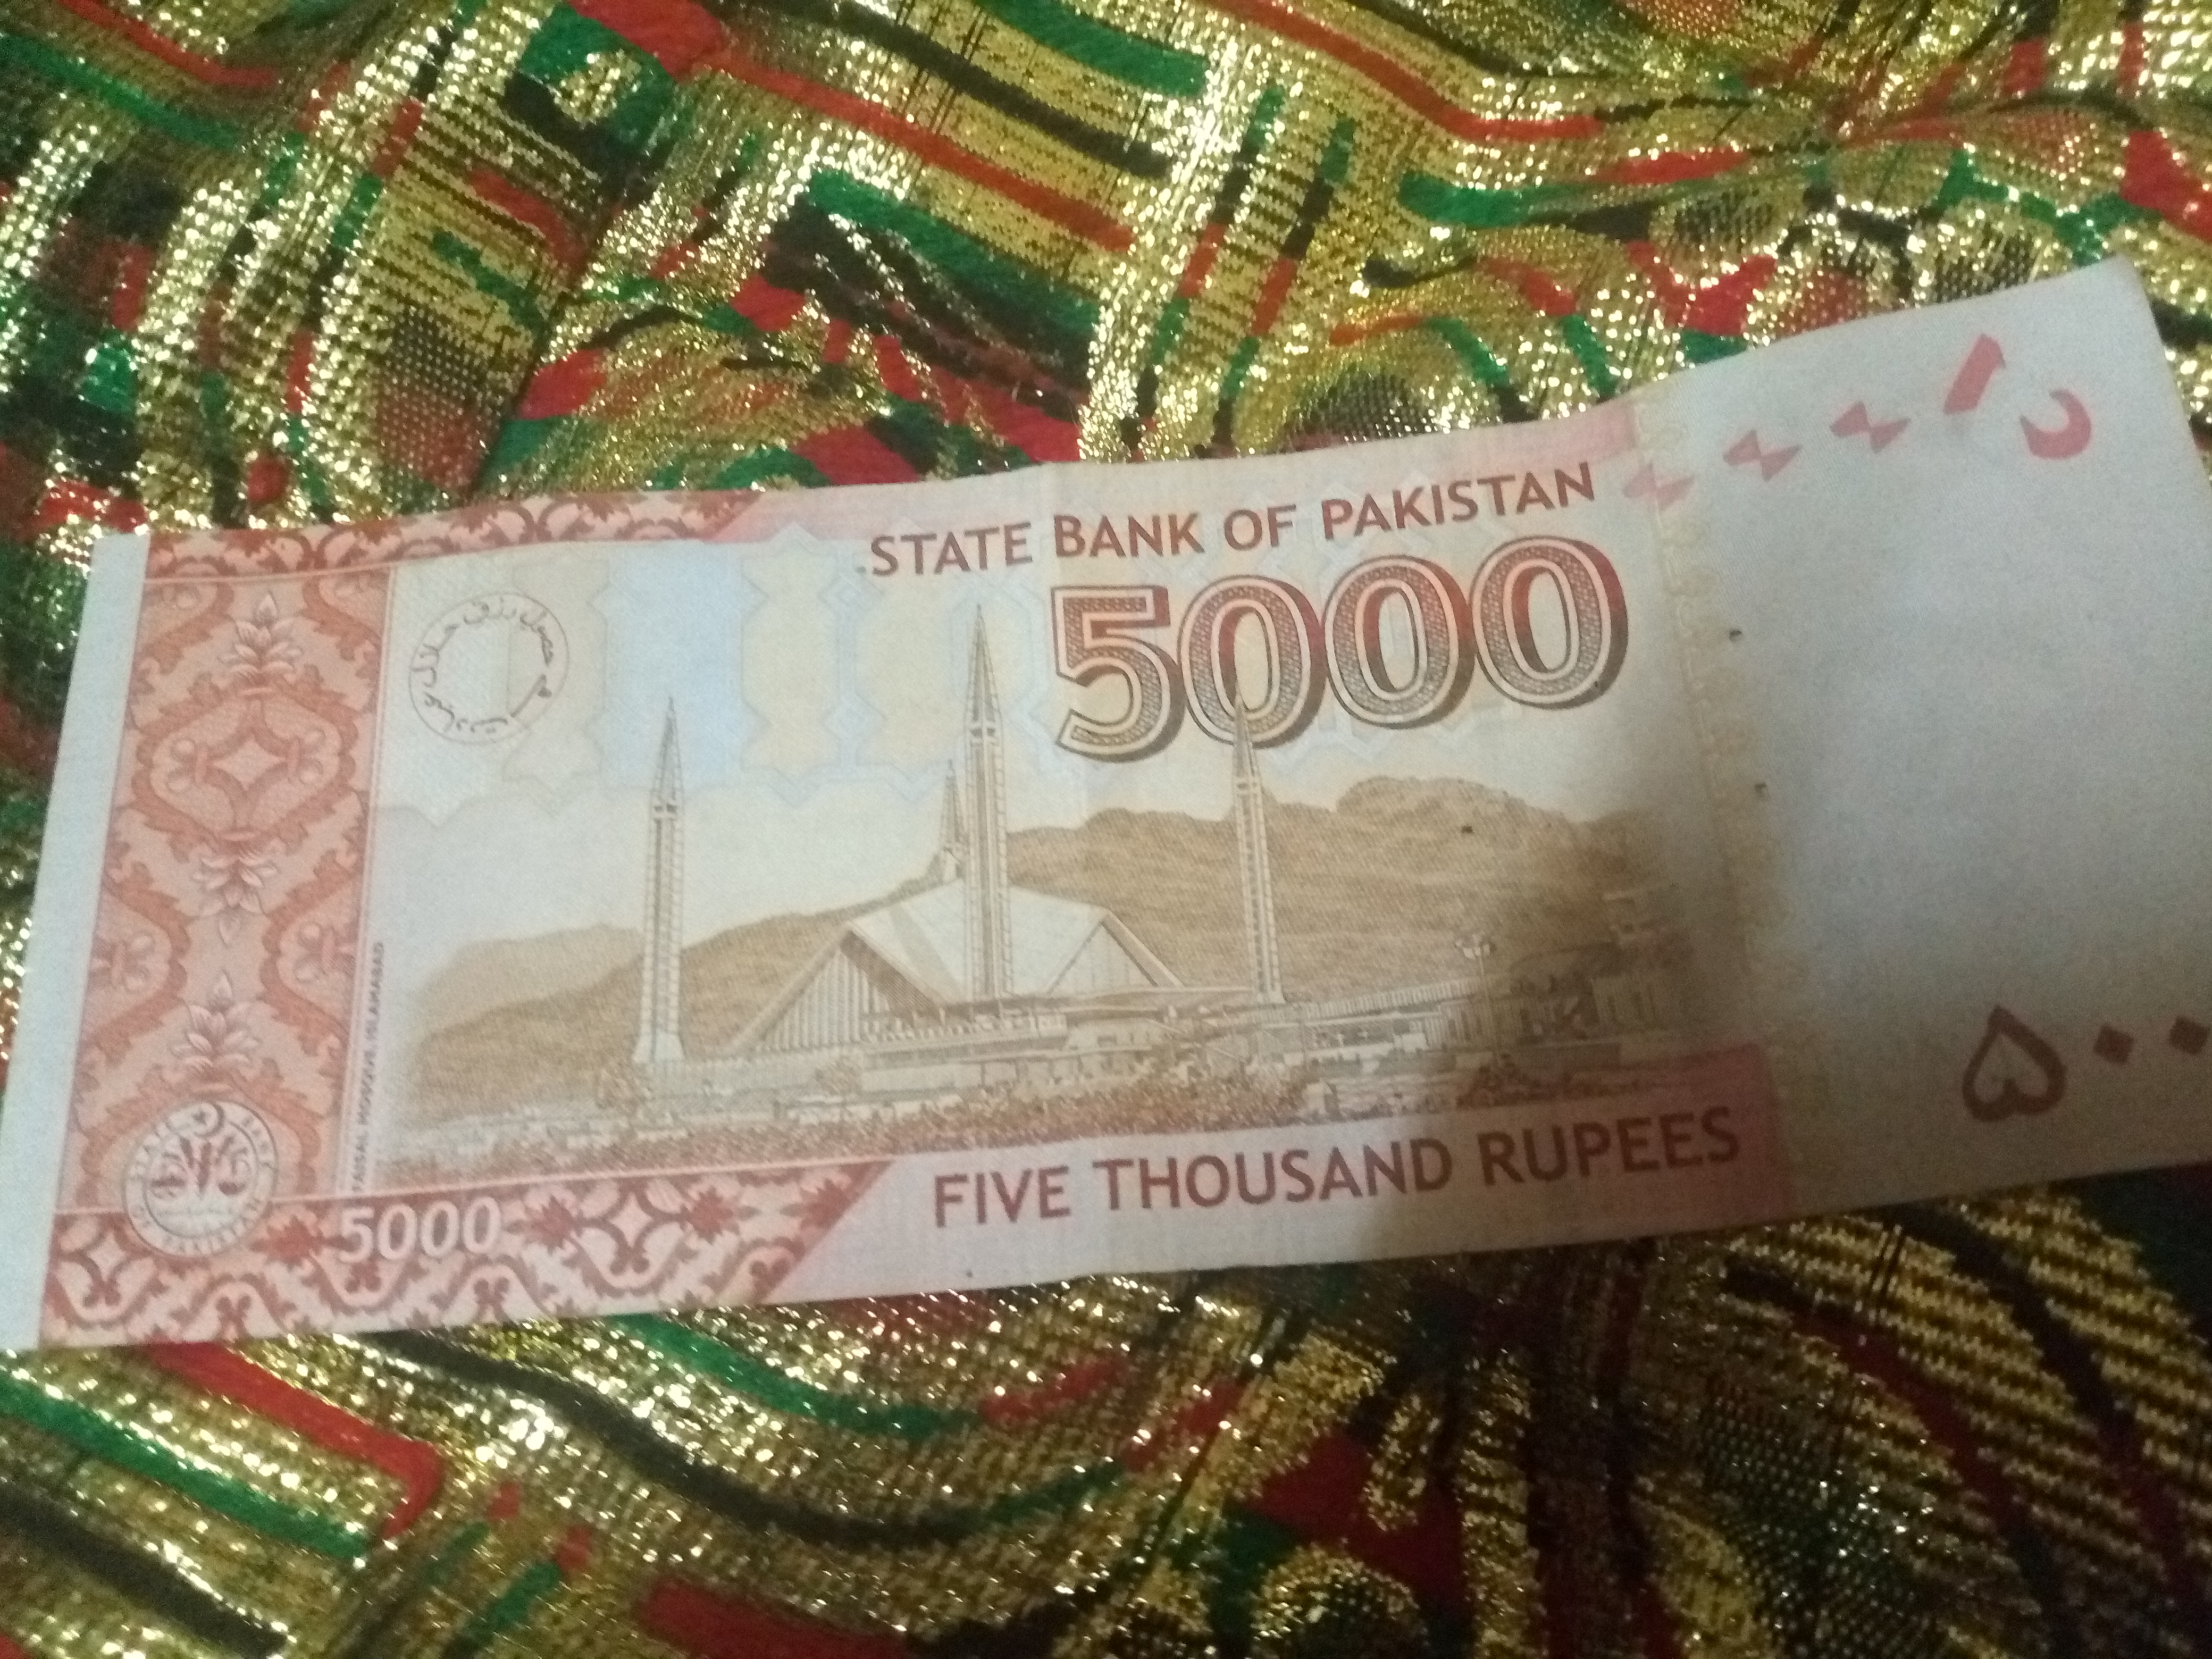5000 rupee: (54, 361, 2168, 1432)
